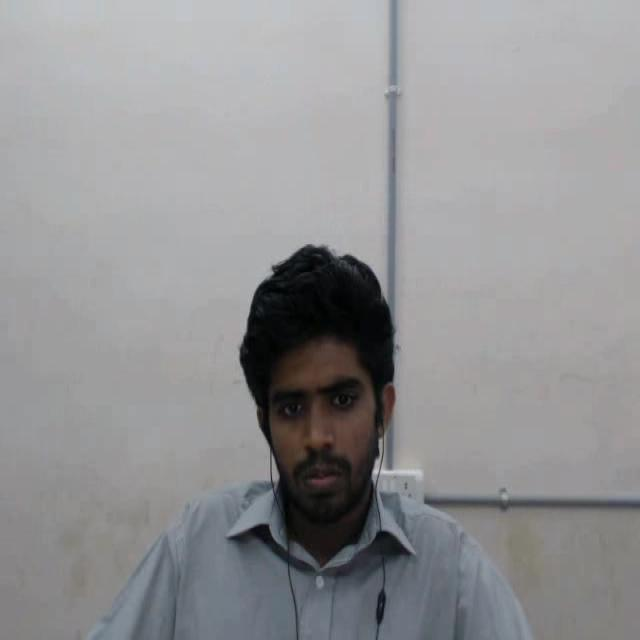Bored: (204, 220, 448, 576)
